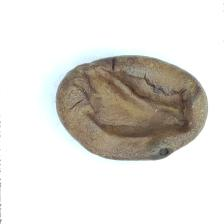NG: (79, 63, 191, 142)
